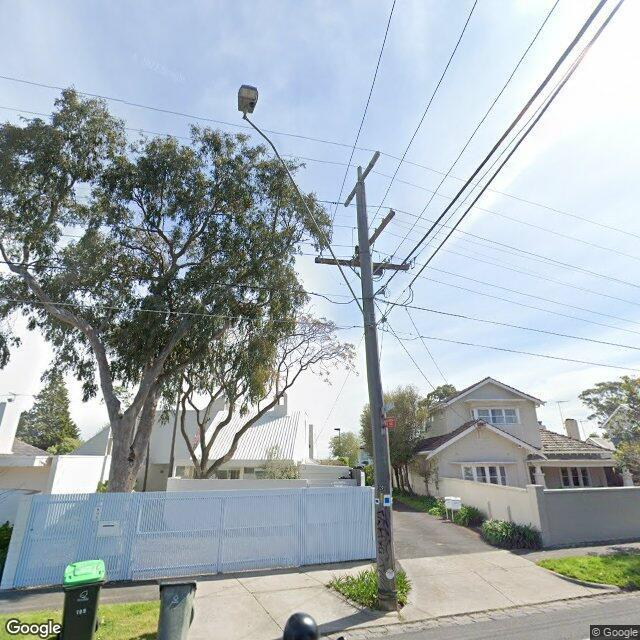HV-transmission: (344, 151, 380, 207)
crossarm: (354, 211, 395, 262), (315, 257, 409, 270), (348, 163, 373, 201)
streetlight: (238, 84, 368, 323)
timber-pole: (355, 181, 398, 611)
